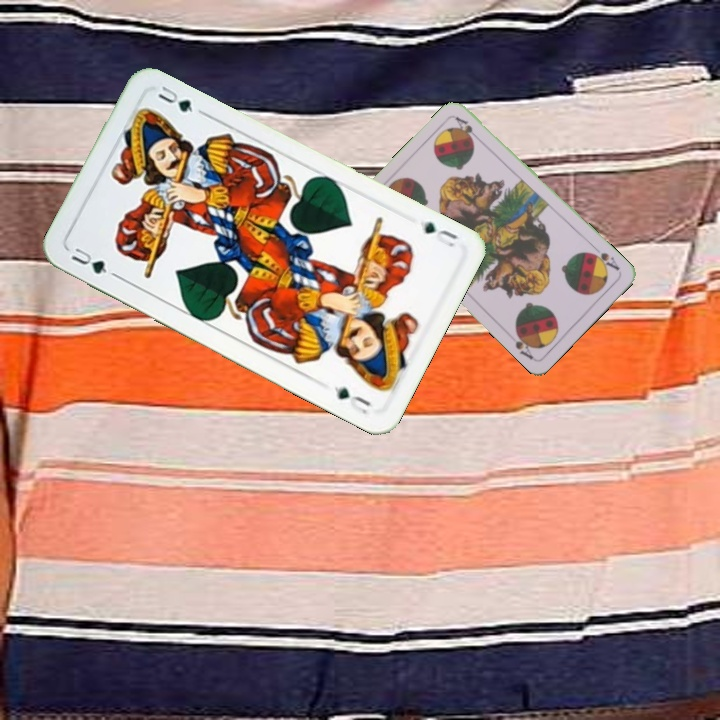GU: (67, 243, 110, 277), (416, 217, 460, 250)
SA: (586, 248, 622, 273)
